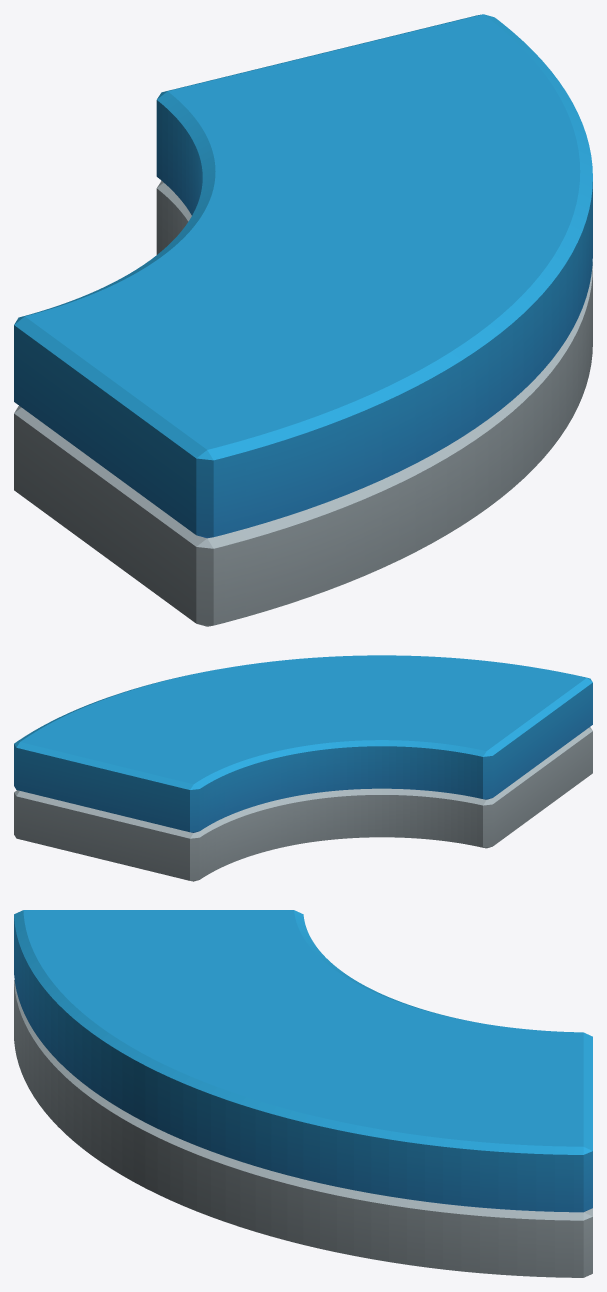
The model's file is kaykit_platform_quarter_curve_4x4x1_blue.glb.
The picture shows the model from 3 angles, top to bottom: view 1: azimuth 30°, elevation 25°; view 2: azimuth 150°, elevation 25°; view 3: azimuth 270°, elevation 25°; orthographic projection. The views are drawn at different scales.
Visible parts, largest first — view 1: kaykit_platform_quarter_curve_blue_visual; view 2: kaykit_platform_quarter_curve_blue_visual; view 3: kaykit_platform_quarter_curve_blue_visual.
Part boxes in pixels (x1,y1,x2,y2): kaykit_platform_quarter_curve_blue_visual: (14, 14, 592, 626); kaykit_platform_quarter_curve_blue_visual: (14, 655, 592, 881); kaykit_platform_quarter_curve_blue_visual: (14, 910, 592, 1277).
Size of what is drawn, in the model's own units: 4 by 1 by 4.
Materials: 1 (1 with a texture image).
